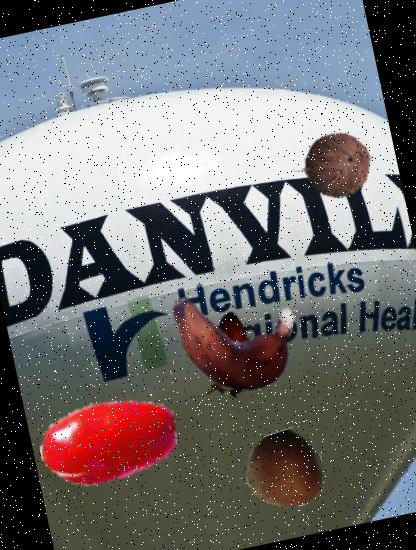Banana: (152, 266, 304, 418)
Cocos: (296, 125, 378, 208)
Nut: (238, 424, 331, 517)
Strawberry: (180, 314, 272, 406)
Tomato: (27, 361, 189, 523)
